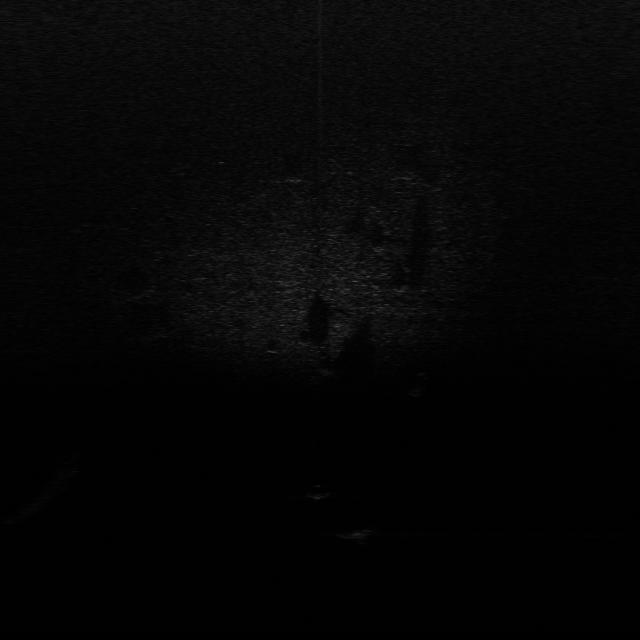ball: (303, 483, 332, 501)
square cage: (337, 526, 379, 544)
tyre: (399, 370, 428, 399)
